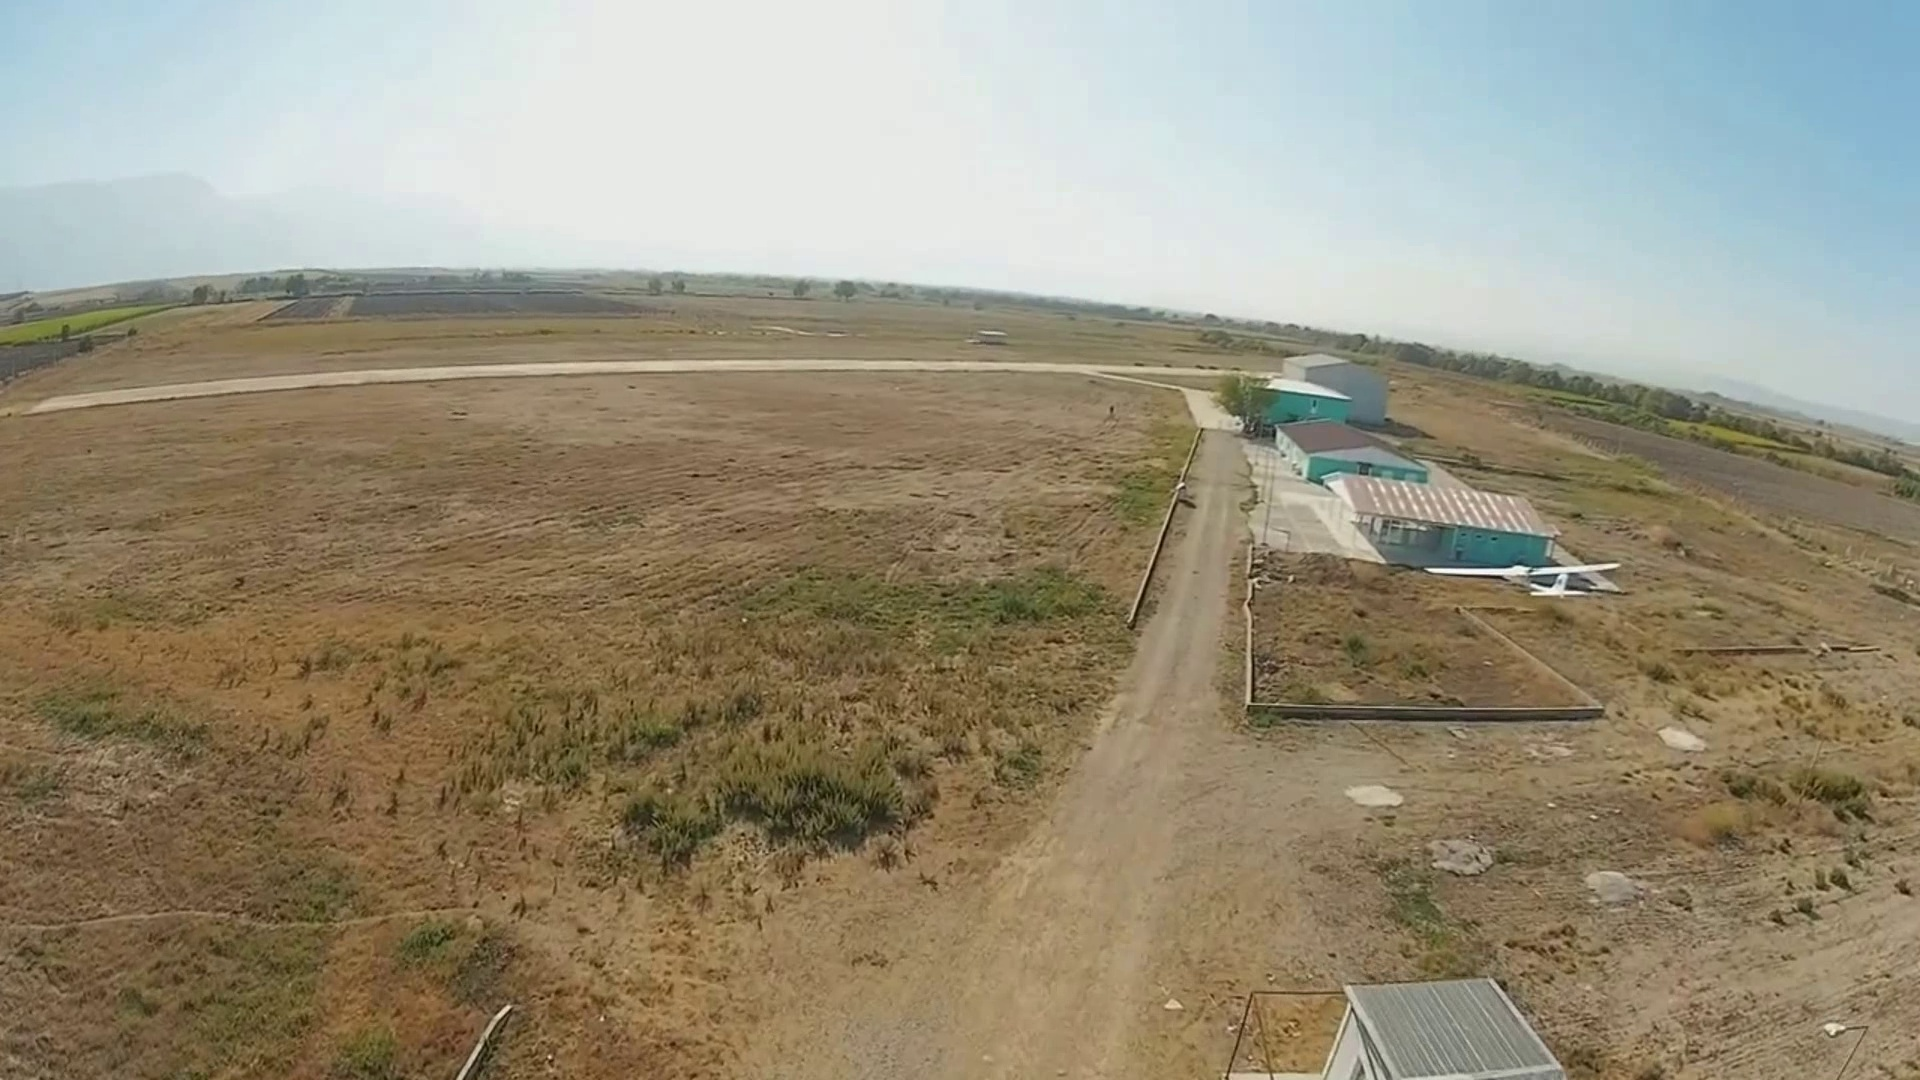airplane: (1224, 362, 1620, 596)
